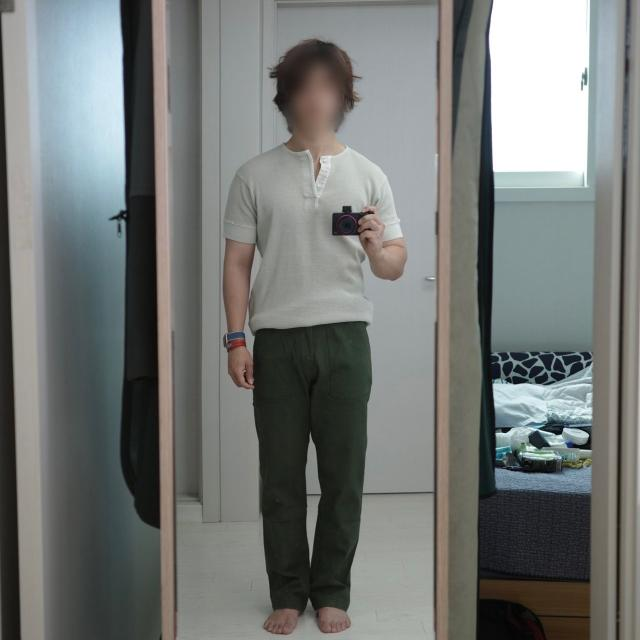cottonpants: (251, 324, 369, 610)
shortsleeve: (226, 146, 406, 333)
